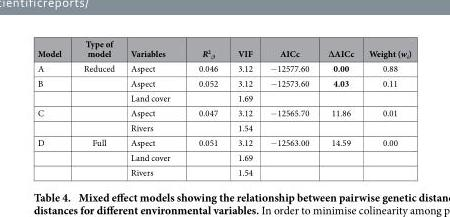table: (36, 37, 410, 178)
table column: (122, 37, 183, 178), (260, 37, 317, 178), (71, 37, 122, 178), (360, 37, 410, 178), (183, 37, 227, 178), (317, 37, 360, 178), (36, 37, 71, 178), (227, 37, 260, 178)
table column header: (36, 37, 410, 60)
table row: (36, 37, 410, 60), (36, 60, 410, 75), (36, 75, 410, 90), (36, 90, 410, 105), (36, 119, 410, 134), (36, 134, 410, 149), (36, 149, 410, 164), (36, 105, 410, 119), (36, 164, 410, 178)
table spanning cell: (36, 134, 71, 178), (36, 75, 71, 105), (36, 105, 71, 134)
